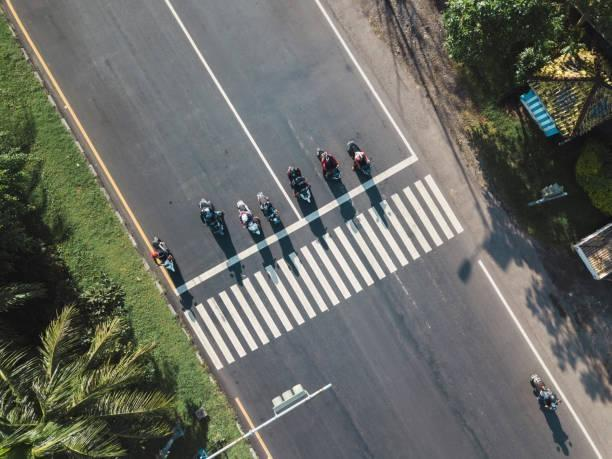Motorcycle: (148, 231, 179, 278), (526, 372, 560, 408), (287, 156, 310, 206), (198, 196, 224, 234), (314, 148, 342, 182), (236, 196, 258, 238), (260, 187, 282, 227), (350, 138, 370, 176)
